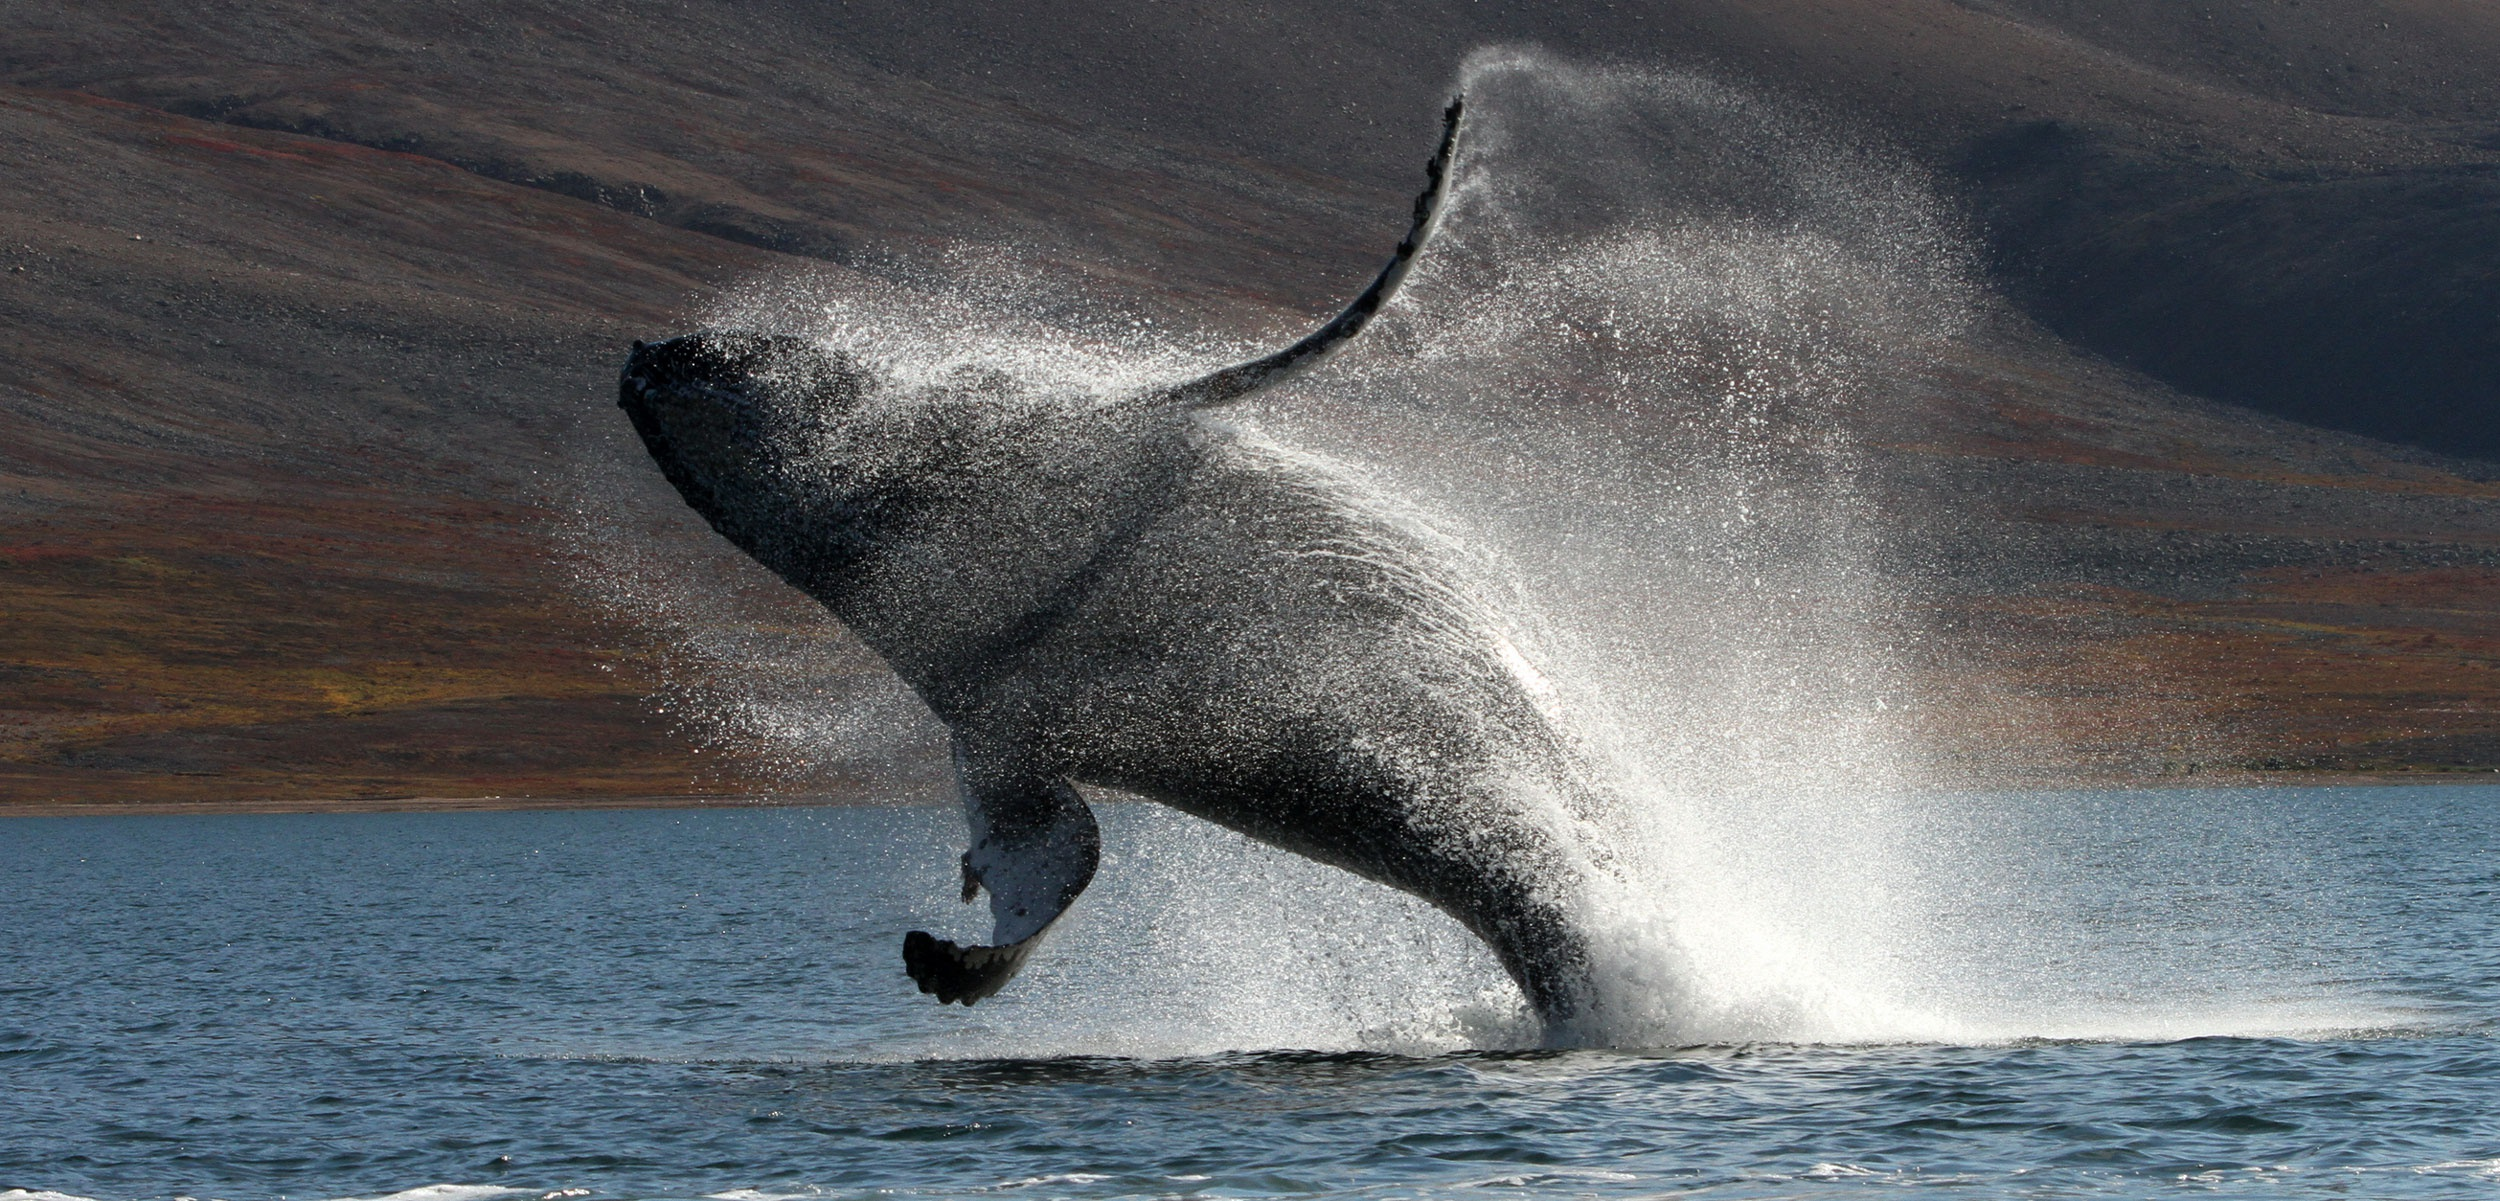humpback: (623, 337, 1732, 1040)
